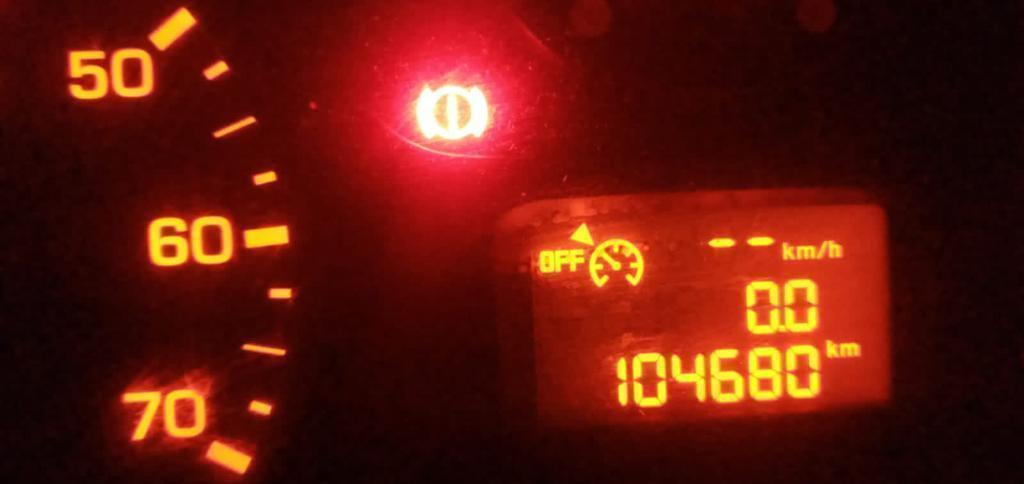,: (778, 323, 787, 334)
0: (632, 350, 668, 408), (743, 279, 780, 335), (782, 277, 819, 333), (784, 343, 821, 399)
1: (615, 356, 630, 408)
4: (670, 353, 708, 404)
6: (708, 347, 745, 405)
8: (747, 345, 783, 402)
X: (568, 247, 585, 274), (538, 249, 554, 274), (839, 342, 862, 358), (795, 244, 817, 260), (555, 249, 568, 273), (825, 339, 839, 360), (781, 240, 795, 261), (828, 239, 842, 260), (817, 239, 827, 260)
odometer: (521, 199, 896, 433)
